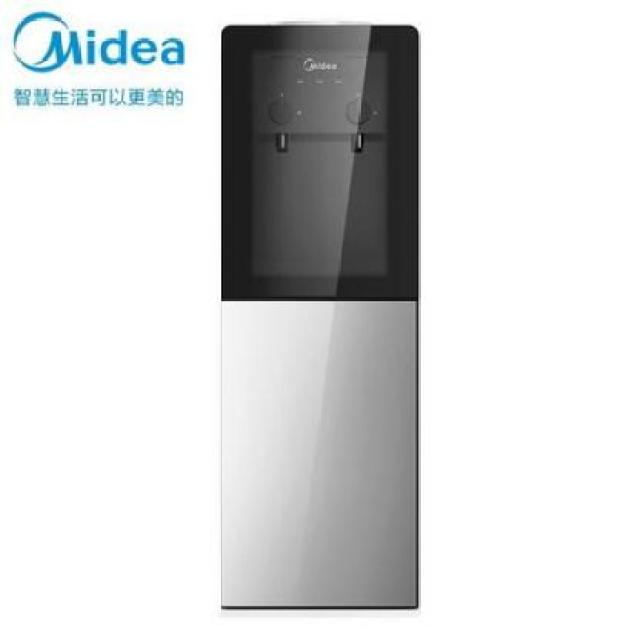cooler: (211, 17, 425, 624)
